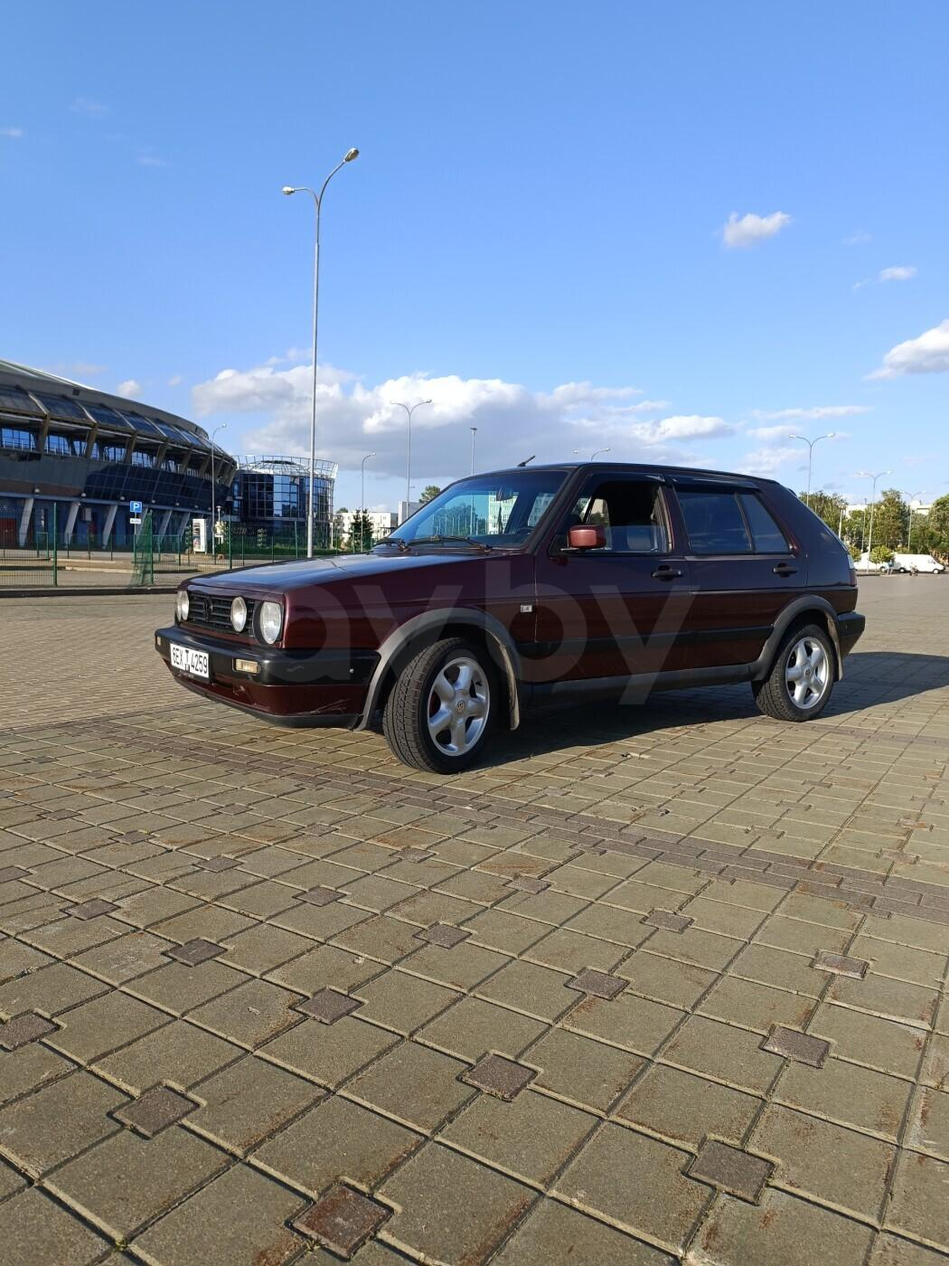Golf_1983-1992: (143, 456, 868, 772)
